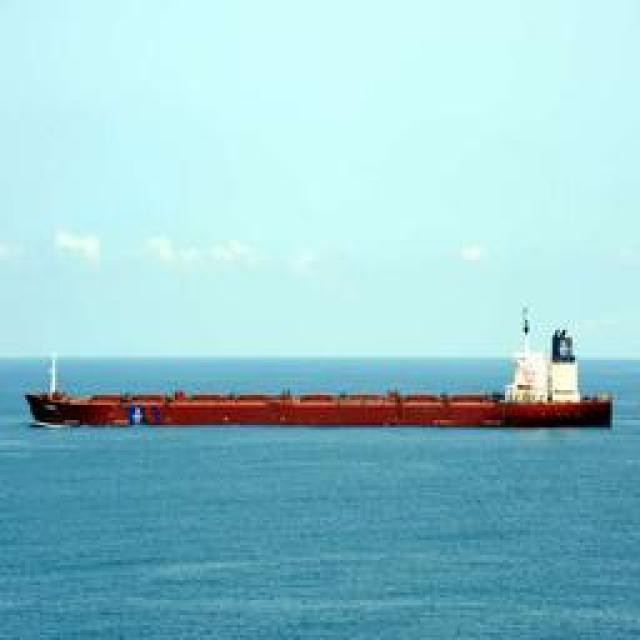ship2: (24, 302, 614, 431)
